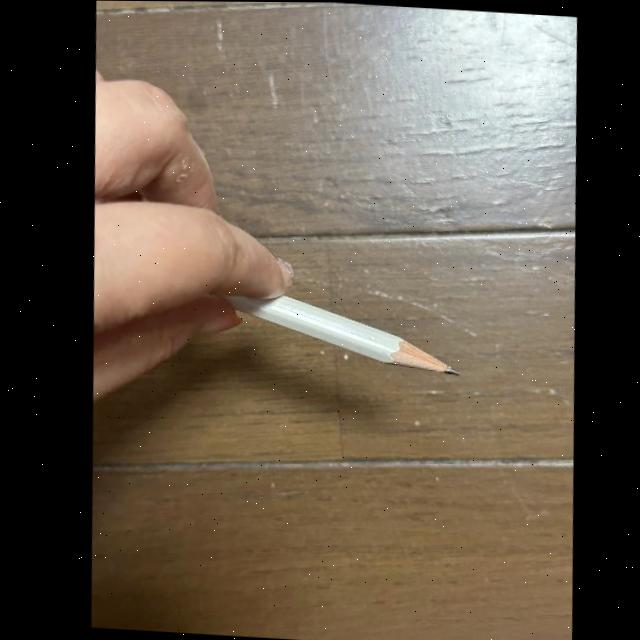pencil: (225, 294, 455, 373)
